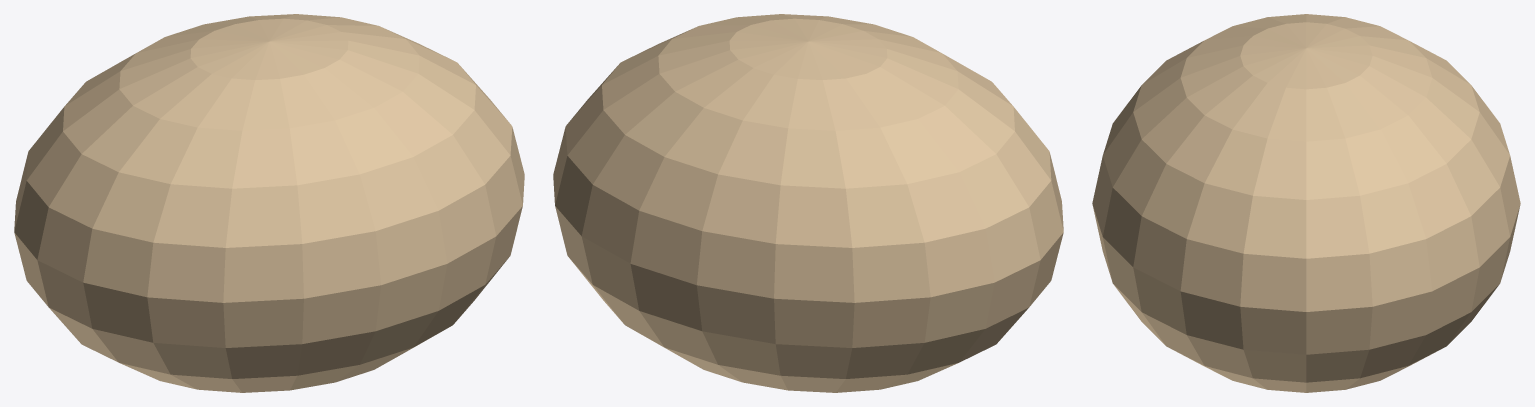
The model's file is g_potato.glb.
3 views of the same model, side by side, from view 1: azimuth 30°, elevation 25°; view 2: azimuth 150°, elevation 25°; view 3: azimuth 270°, elevation 25° (orthographic). The views are drawn at different scales.
Visible parts, largest first — view 1: g_potato; view 2: g_potato; view 3: g_potato.
Part boxes in pixels (x1,y1,x2,y2): g_potato: [14, 14, 524, 392]; g_potato: [553, 14, 1063, 392]; g_potato: [1092, 14, 1520, 392].
Bounding box in the file's own units: 0.108 × 0.072 × 0.09.
